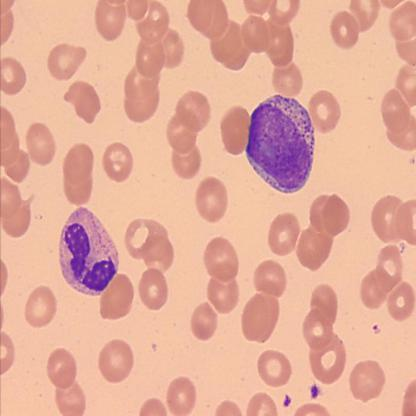Myelocyte: (246, 91, 315, 195), (60, 205, 118, 292)
